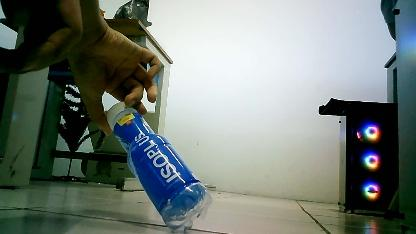Plastic Bottle: (93, 96, 225, 230)
